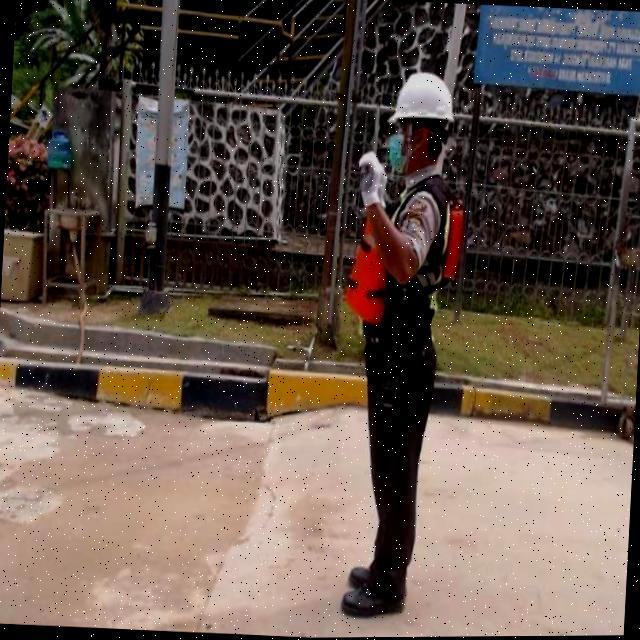goggles_on: (380, 114, 451, 144)
